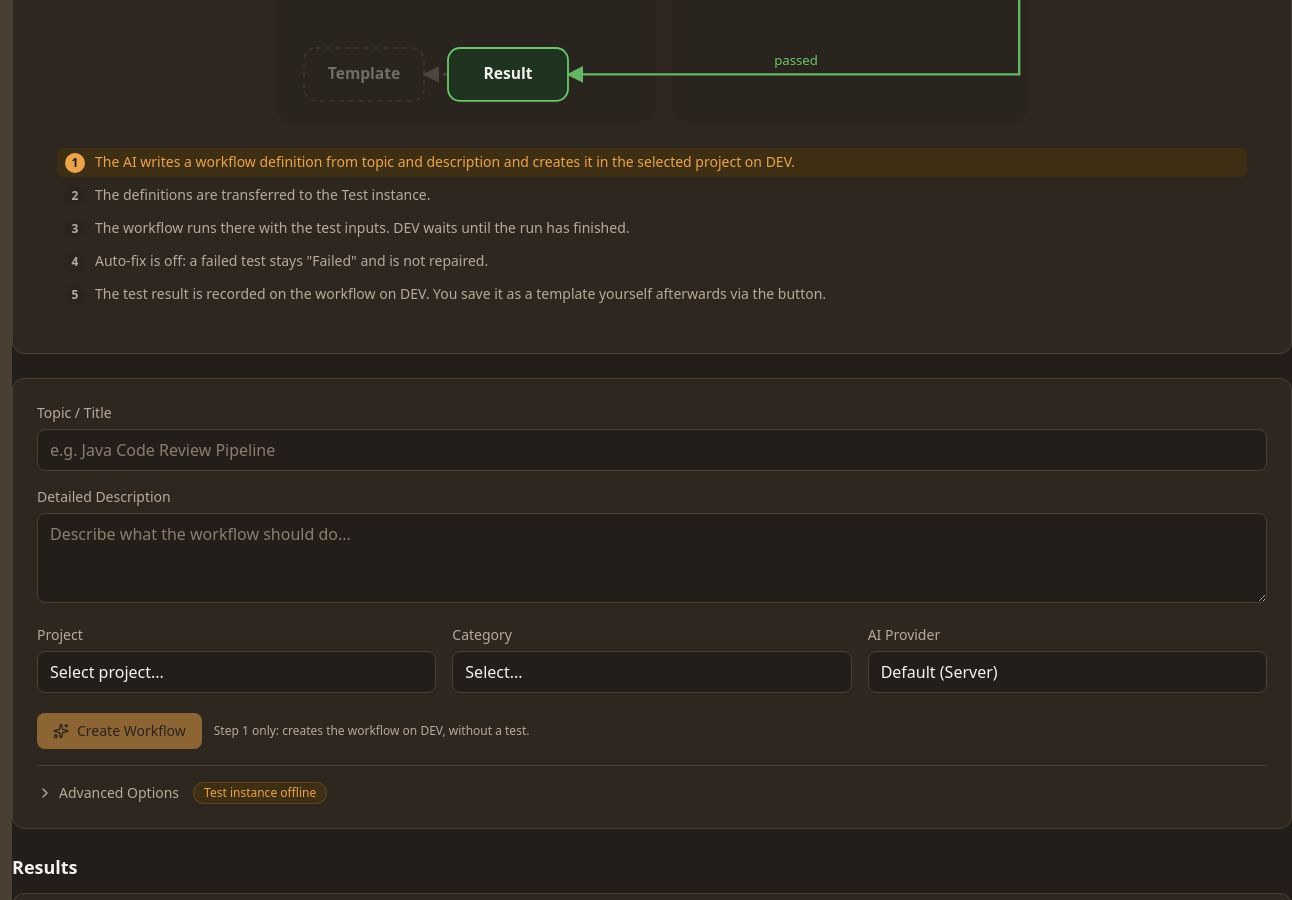
Test: WorkflowFactory › creates a workflow, then verifies and promotes the same entry
(page scrolled)
Type "Code review" into the field labelled "Topic / Title".
click(652, 450); type("Code review")  # box top-left (37, 429), bottom-right (1267, 471)
(page scrolled)
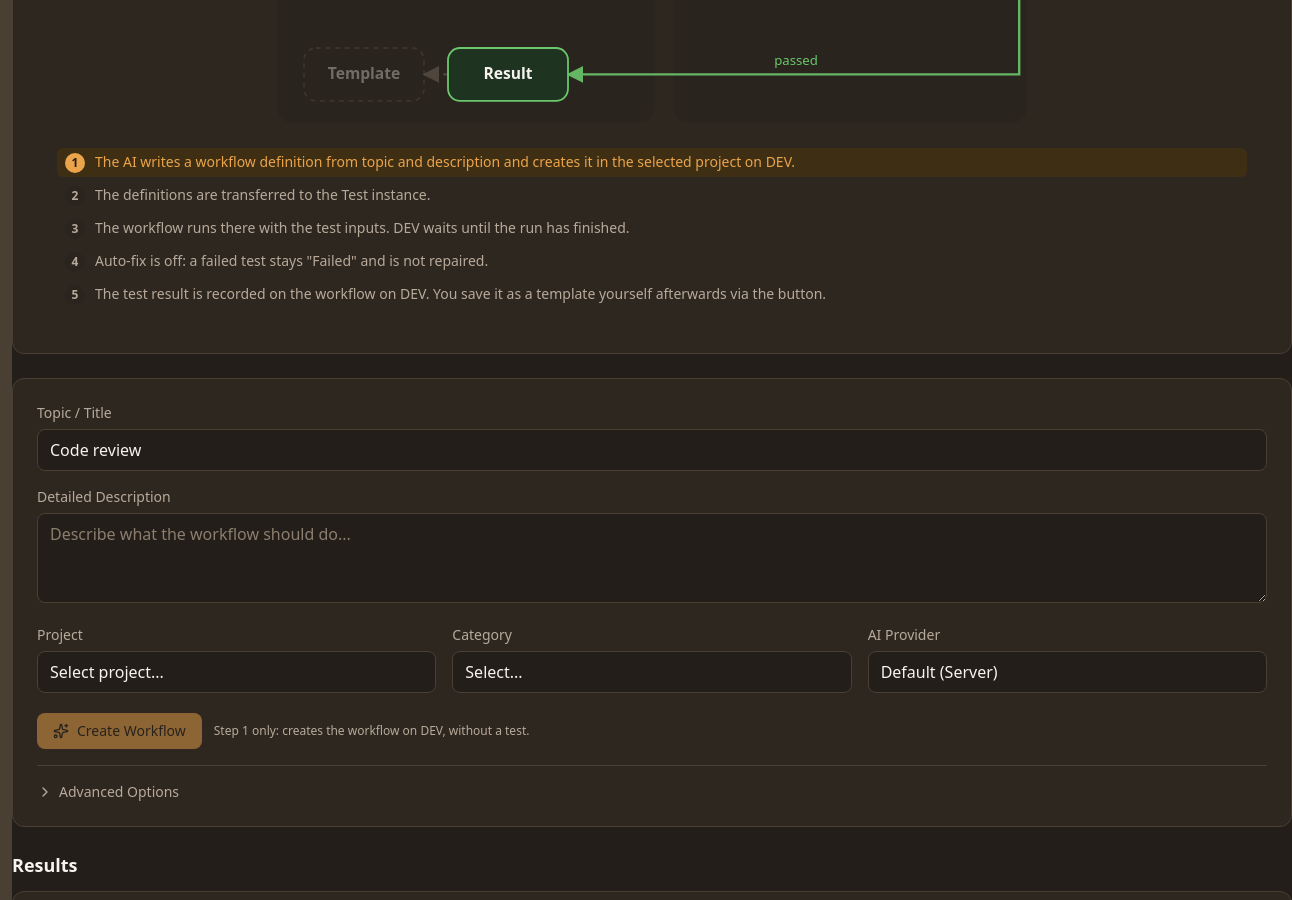
Select "Test Project" in the 1st dropdown named "Select project..." at (237, 672), box top-left (37, 651), bottom-right (436, 693)
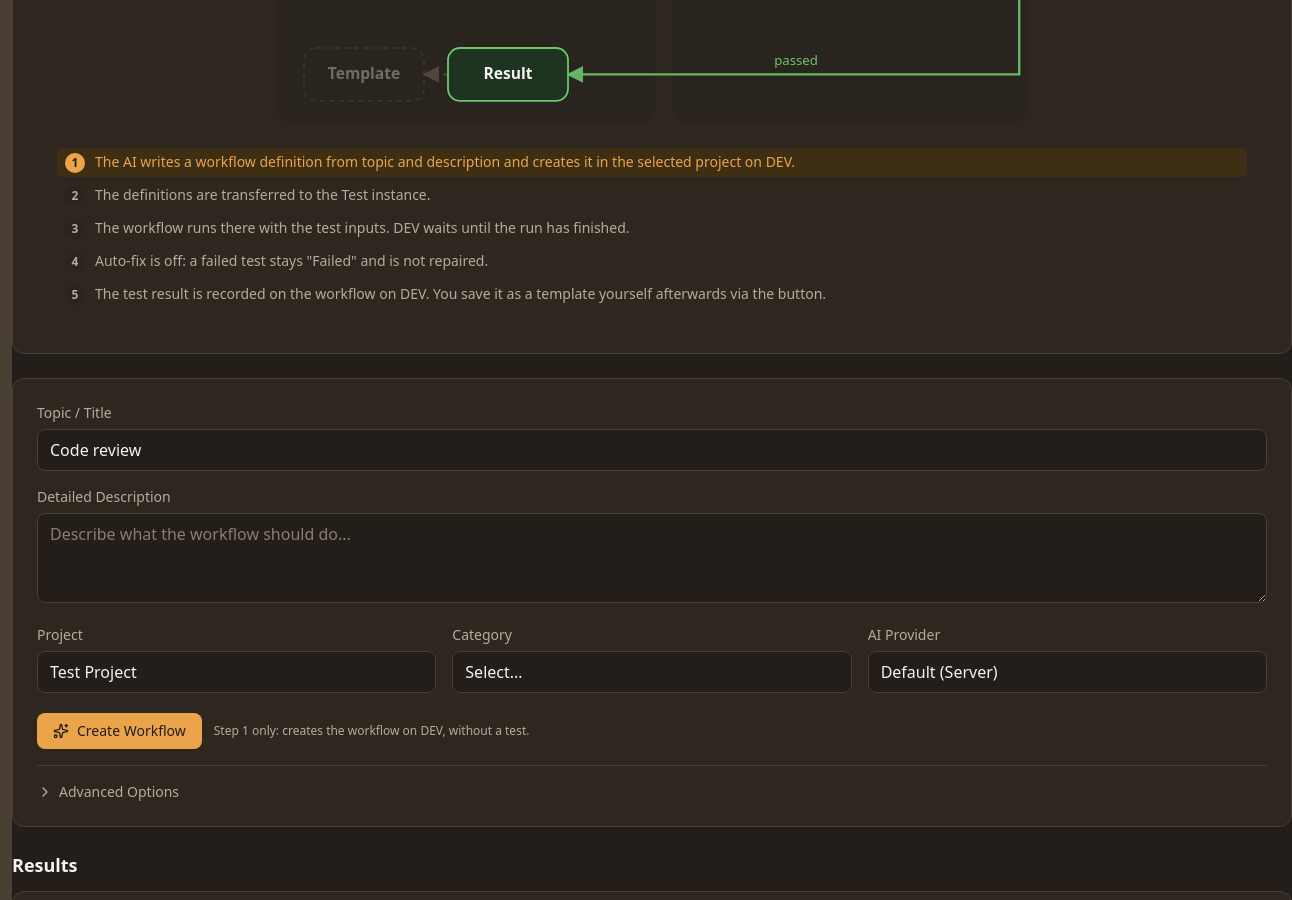
Click the button "Create Workflow".
click(119, 731)  # box top-left (37, 713), bottom-right (202, 749)
(page scrolled)
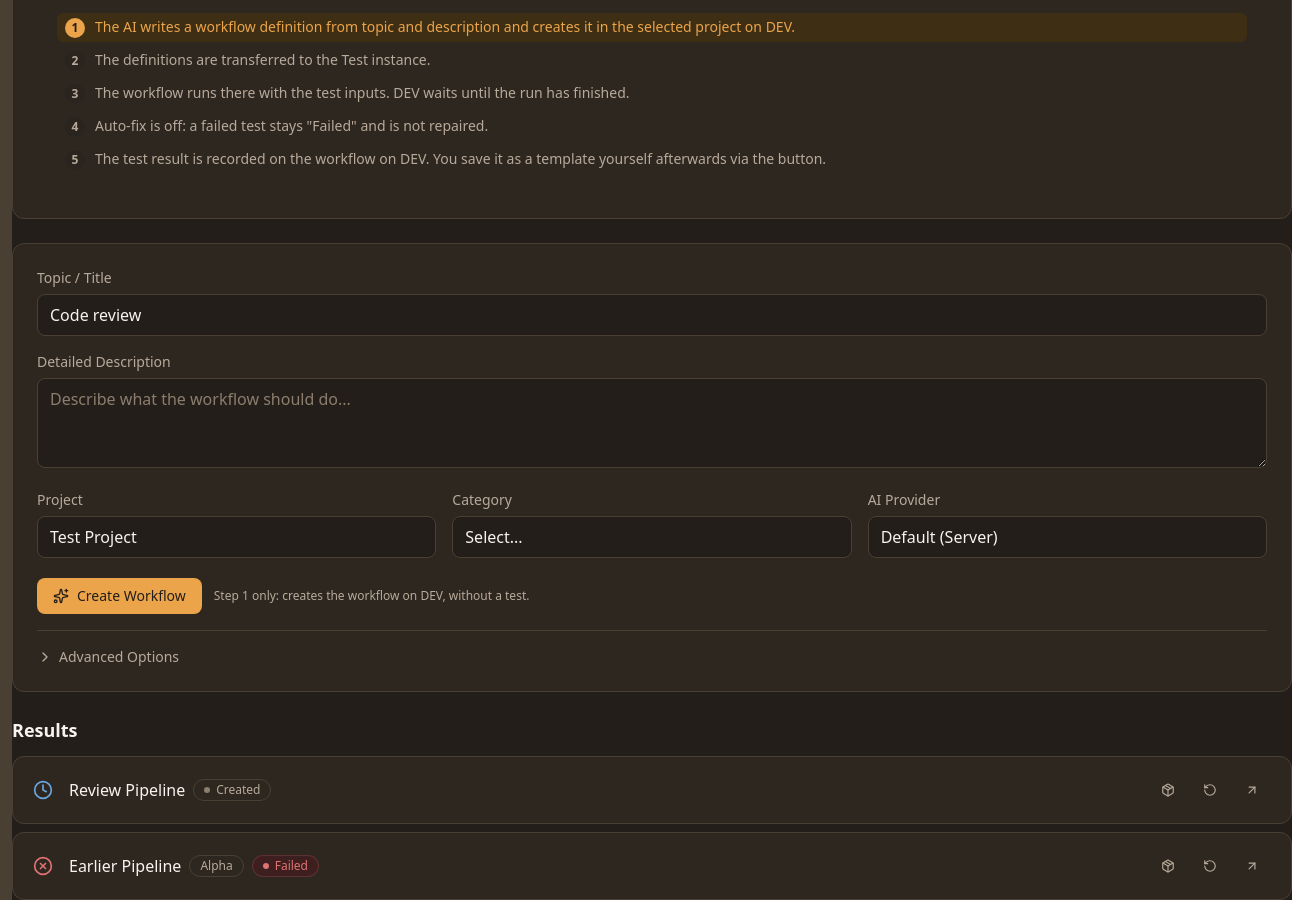
Expected: the text "Created" is shown, top-left (193, 779), bottom-right (272, 801)
Click the button titled "Verify" in the row of "Created".
click(1210, 790)  # box top-left (1191, 777), bottom-right (1229, 803)
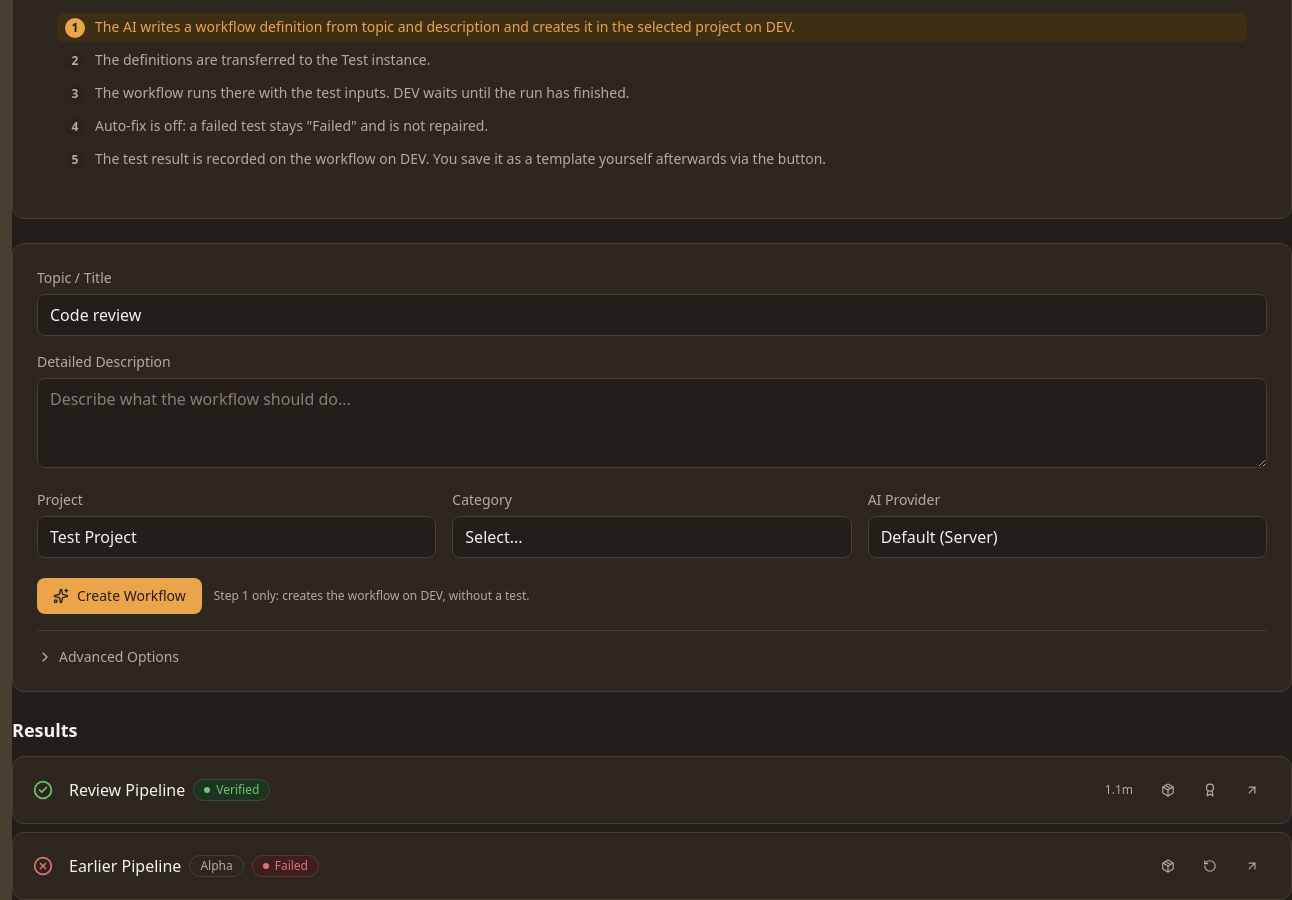
Expected: the text "Verified" is shown, top-left (193, 779), bottom-right (270, 801)
Expected: the text "1.1m" is shown, top-left (1105, 782), bottom-right (1133, 798)
Click the button titled "Promote as Template".
click(1210, 790)  # box top-left (1191, 777), bottom-right (1229, 803)
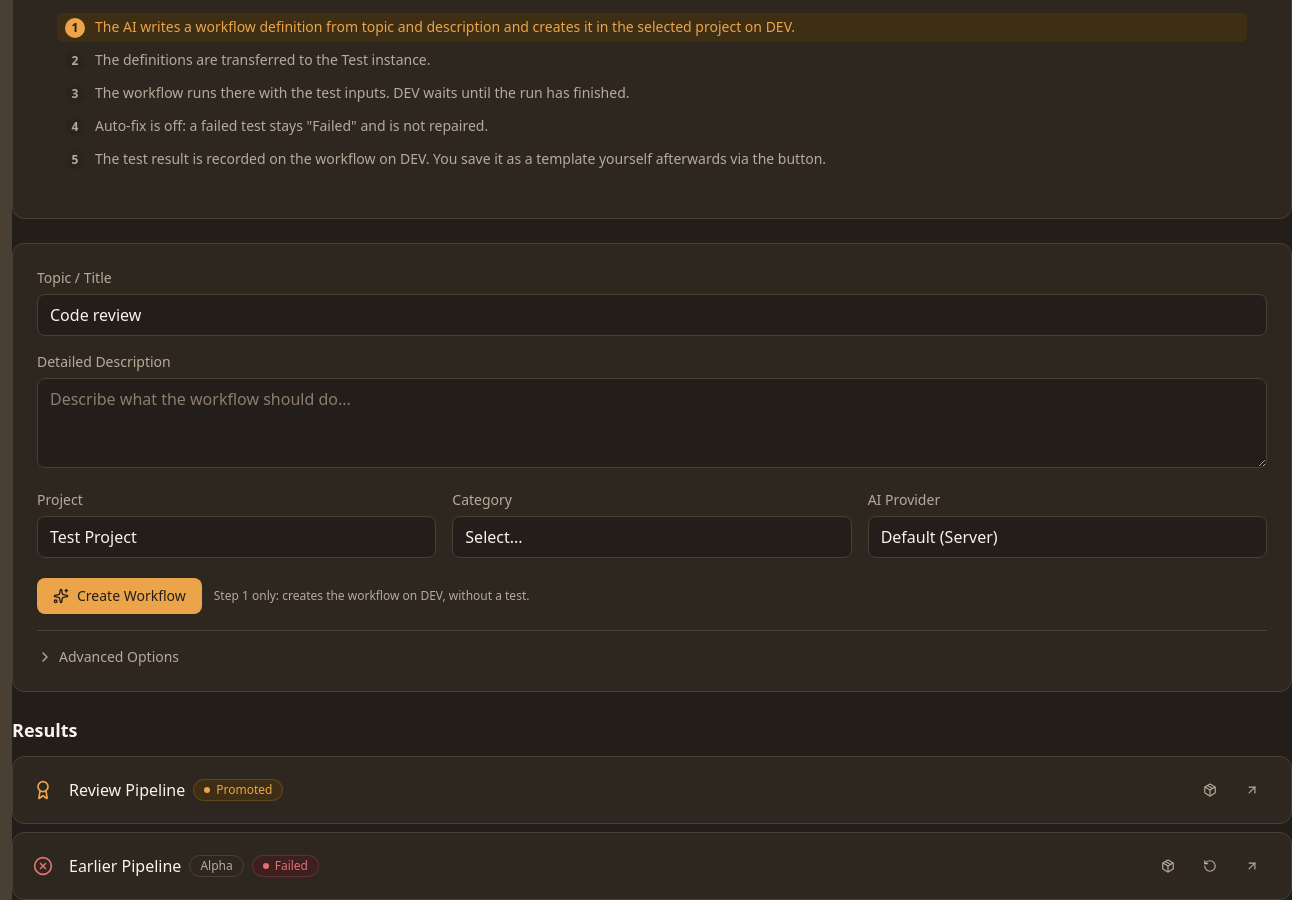
Expected: the text "Review Pipeline" is shown once, top-left (69, 778), bottom-right (185, 802)
Expected: the text "Promoted" is shown, top-left (193, 779), bottom-right (283, 801)
